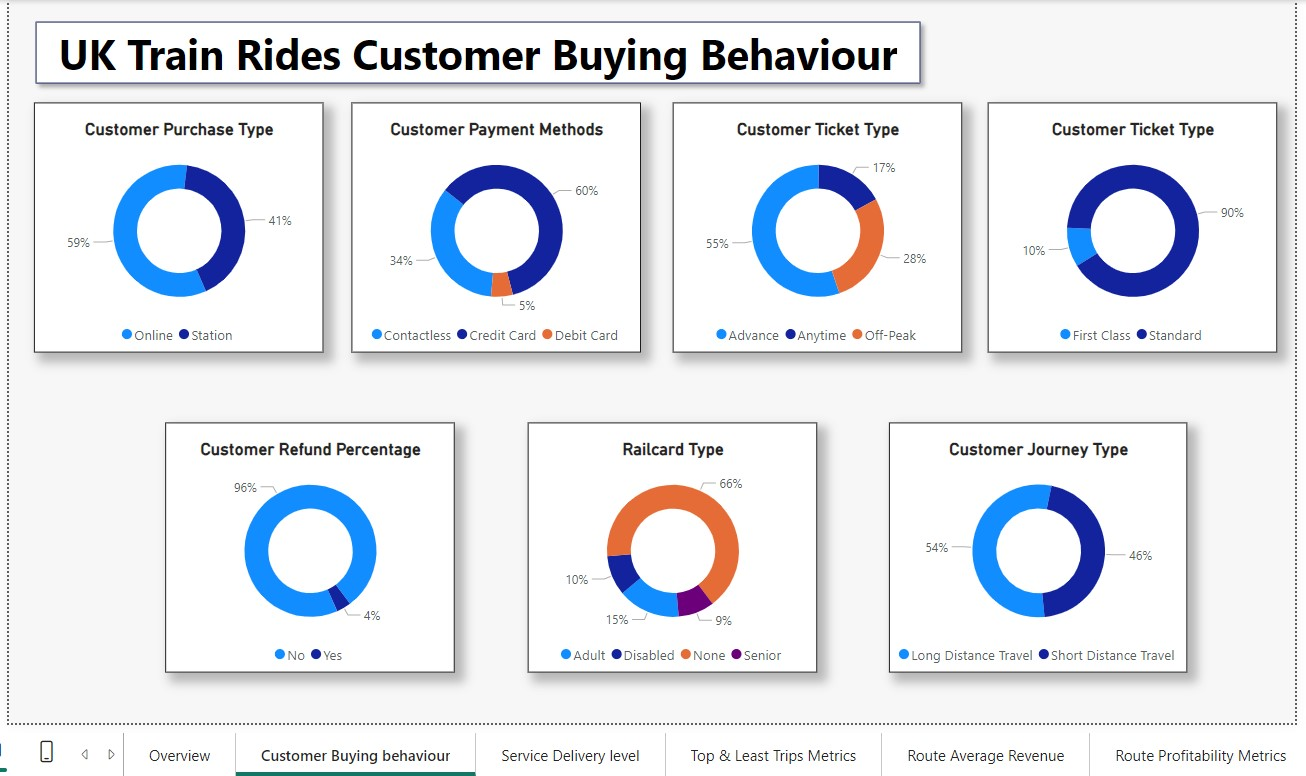

This screenshot's page, from the dashboard's own definition file:
{"tool":"powerbi","page":{"name":"Customer Buying behaviour","canvas":[1280,720],"ordinal":1},"visuals":[{"type":"donutChart","title":"Customer Purchase Type","fields":{"Y":["CountNonNull(railway_clean_data.Transaction ID)"],"Series":["railway_clean_data.Purchase Type"]},"box":[25.3,102.1,287.9,249],"z":0},{"type":"donutChart","title":"Customer Payment Methods","fields":{"Y":["CountNonNull(railway_clean_data.Transaction ID)"],"Series":["railway_clean_data.Payment Method"]},"box":[341.4,102.1,287.9,249],"z":1000},{"type":"donutChart","title":"Customer Ticket Type","fields":{"Y":["CountNonNull(railway_clean_data.Transaction ID)"],"Series":["railway_clean_data.Ticket Type"]},"box":[660.4,102.1,287.9,249],"z":2000},{"type":"donutChart","title":"Customer Ticket Class","fields":{"Y":["CountNonNull(railway_clean_data.Transaction ID)"],"Series":["railway_clean_data.Ticket Class"]},"box":[973.6,102.1,287.9,249],"z":3000},{"type":"donutChart","title":"Customer Refund Percentage","fields":{"Y":["CountNonNull(railway_clean_data.Transaction ID)"],"Series":["railway_clean_data.Refund Request"]},"box":[155.6,420.2,287.9,249],"z":4000},{"type":"donutChart","title":"Railcard Type","fields":{"Y":["CountNonNull(railway_clean_data.Transaction ID)"],"Series":["railway_clean_data.Railcard"]},"box":[516.5,420.2,287.9,249],"z":5000},{"type":"donutChart","title":"Customer Journey Type","fields":{"Y":["CountNonNull(railway_clean_data.Transaction ID)"],"Series":["railway_clean_data.Journey Type"]},"box":[876.4,420.2,296.7,249],"z":6000},{"type":"shape","box":[17.5,12.6,898.7,79.8],"z":7000}]}

Visuals, with their boxes in screenshot pixels (x1, y1, x2, y2):
"Customer Purchase Type" donutChart: <bbox>32, 99, 322, 350</bbox>
"Customer Payment Methods" donutChart: <bbox>350, 99, 640, 350</bbox>
"Customer Ticket Type" donutChart: <bbox>671, 99, 961, 350</bbox>
"Customer Ticket Class" donutChart: <bbox>986, 99, 1276, 350</bbox>
"Customer Refund Percentage" donutChart: <bbox>163, 419, 453, 670</bbox>
"Railcard Type" donutChart: <bbox>527, 419, 816, 670</bbox>
"Customer Journey Type" donutChart: <bbox>889, 419, 1187, 670</bbox>
shape: <bbox>24, 9, 929, 90</bbox>
